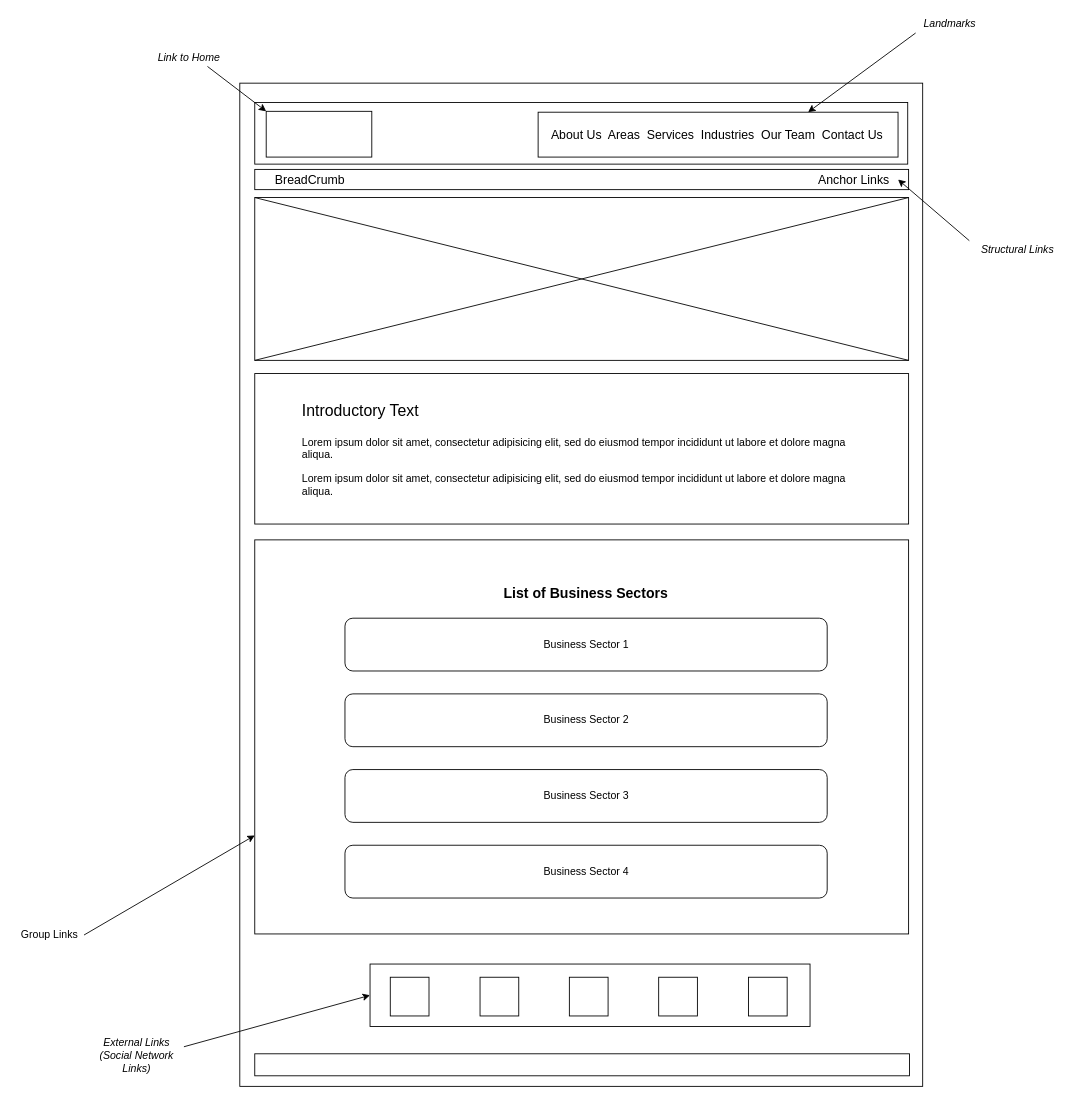
This 1081x1102 diagram has some shape labels left out. The shapes that lost their labels are listed below. From the top down, each one's centre as x and y in pixels, then its label:
At [318,133]: "LOGO".
At [581,278]: "ALL INDUSTRIES".
At [581,1064]: "Footer".
